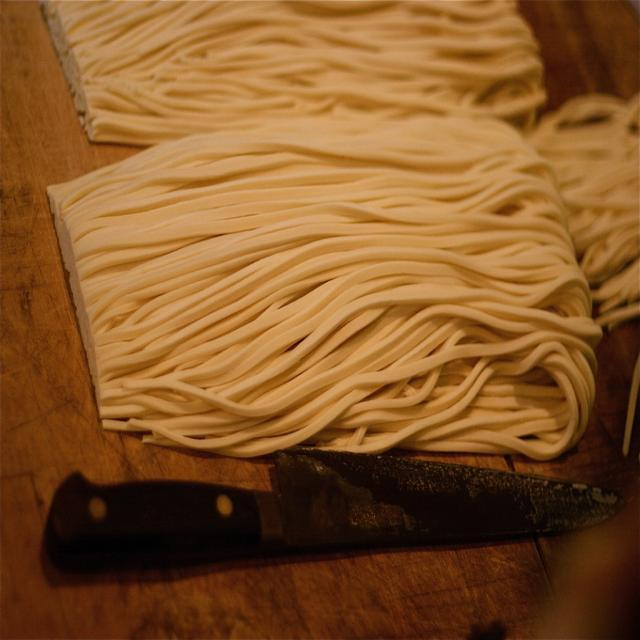Knife: (45, 450, 621, 569)
